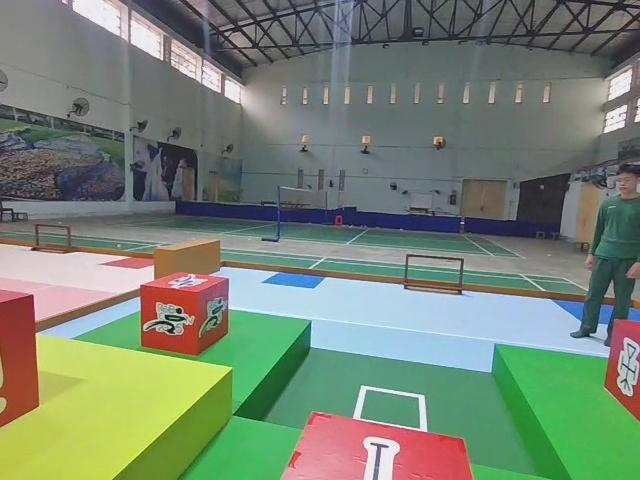R1: (136, 267, 233, 360)
R2 Real: (603, 317, 640, 424)
